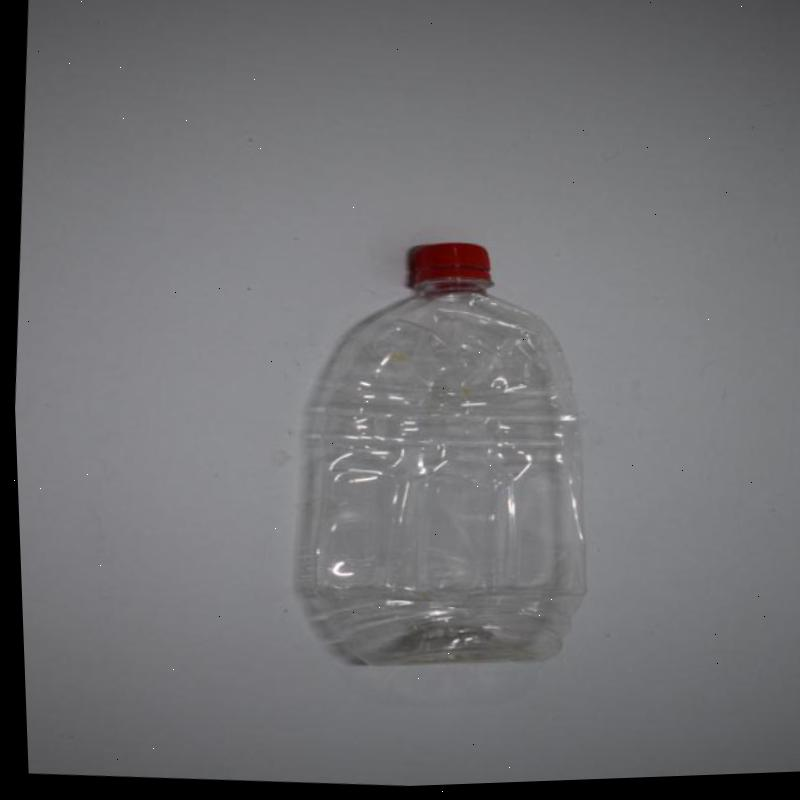botella: (269, 233, 603, 687)
